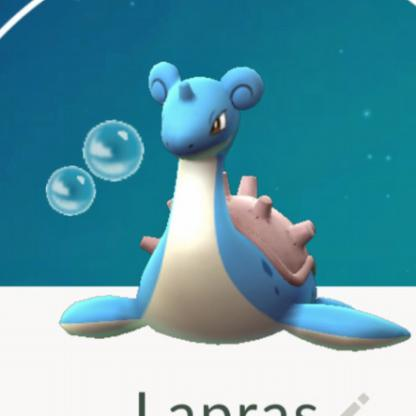Lapras: (53, 52, 413, 363)
